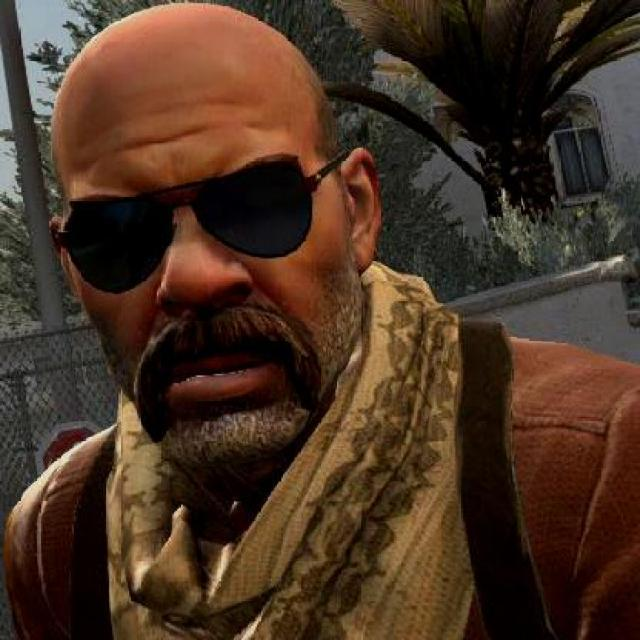T: (0, 9, 638, 638)
T_HEAD: (56, 4, 382, 456)
